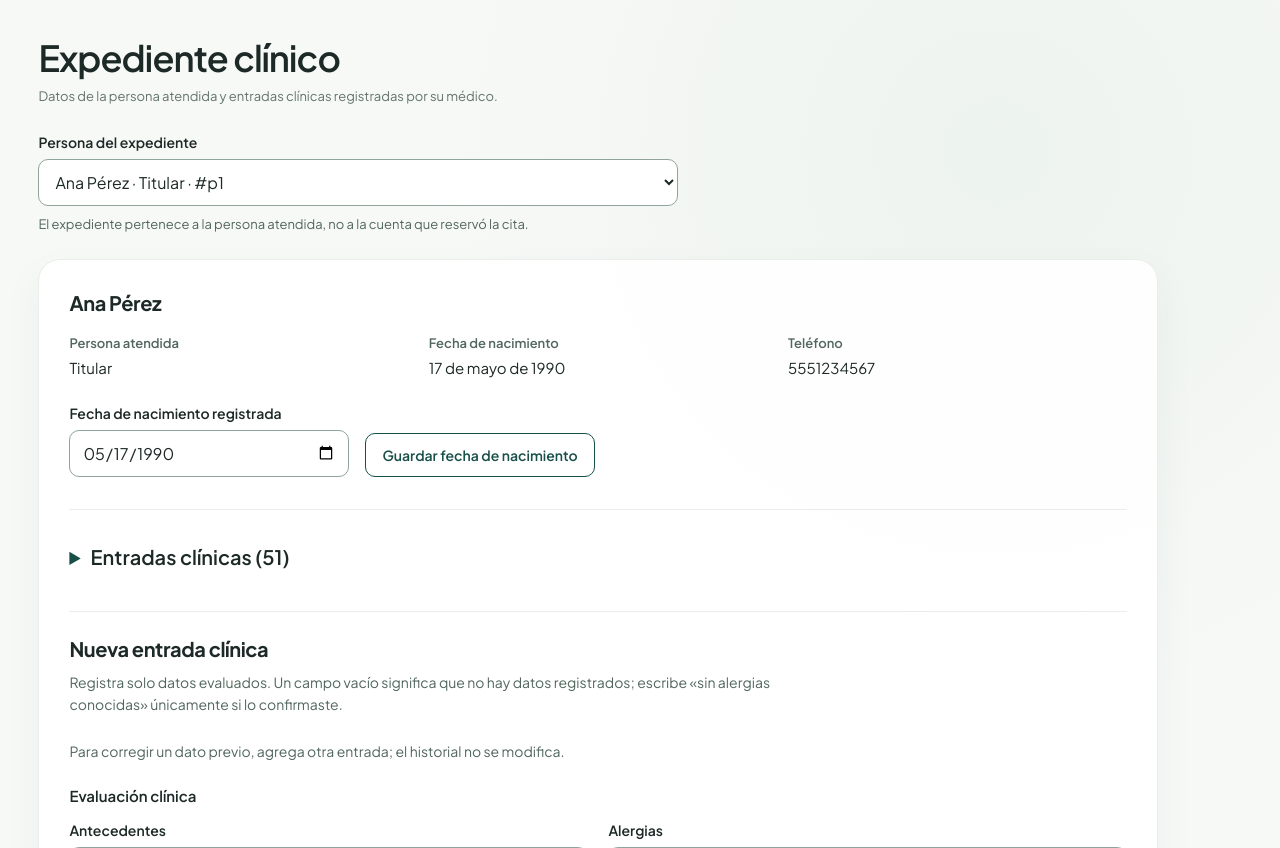
it: history is a native disclosure with the correct default for medico
Expected: the heading "Ana Pérez" is shown, left=69, top=290, right=161, bottom=315
Expected: the button "Cargar más entradas" is not shown
Step 1. Click the heading "Entradas clínicas (51)" → (190, 556), box left=91, top=544, right=290, bottom=569
(page scrolled)
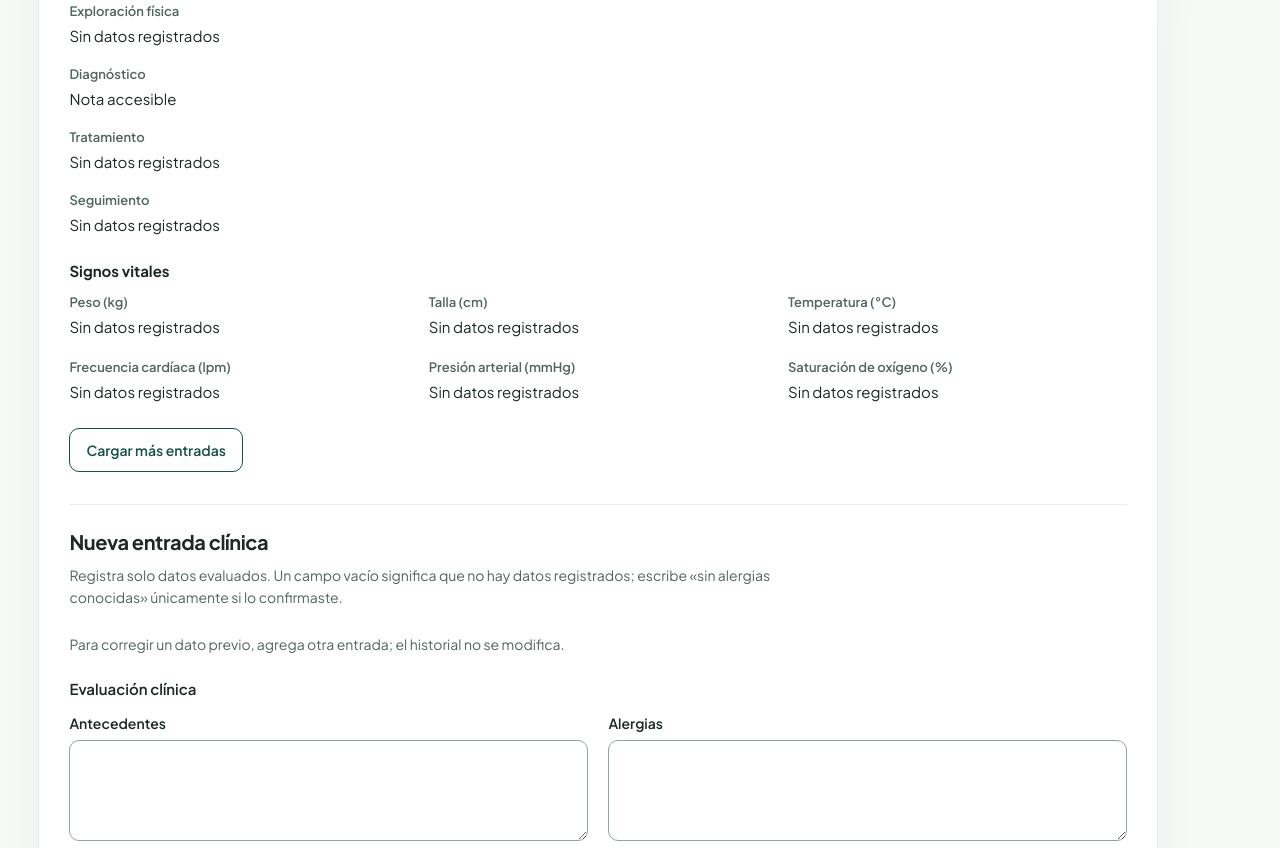
Result: the button "Cargar más entradas" is shown at left=69, top=428, right=243, bottom=472
